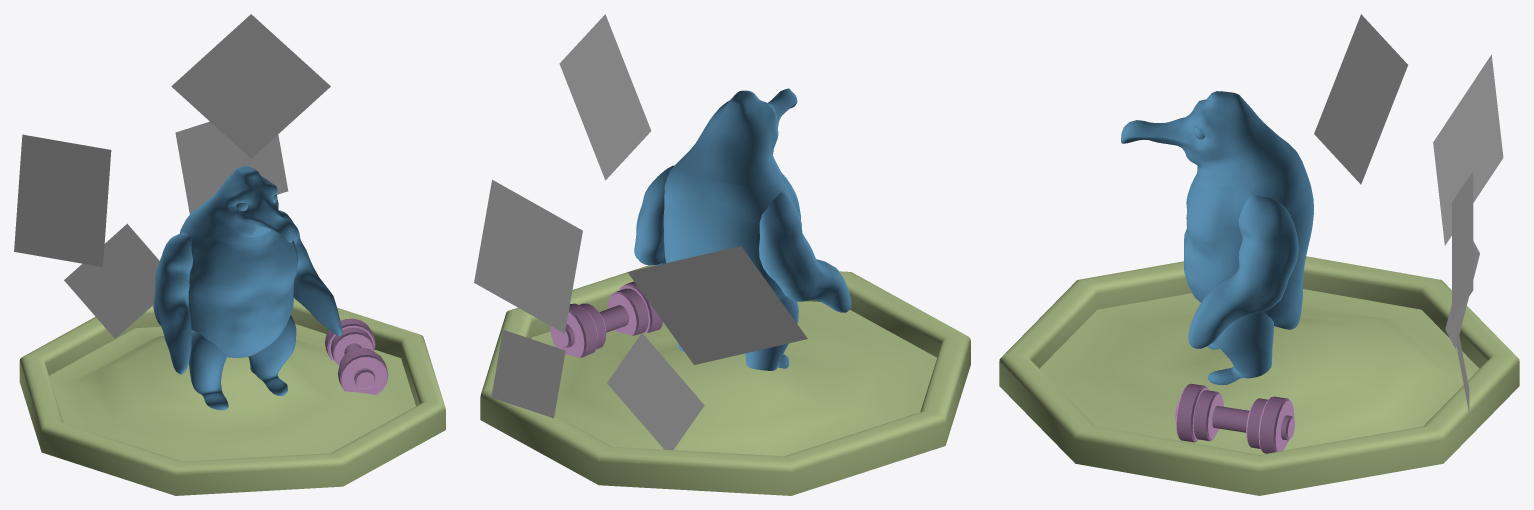
File: SM_ManchotComplet.fbx
3 renders of one model, left to right at view 1: azimuth 30°, elevation 25°; view 2: azimuth 150°, elevation 25°; view 3: azimuth 270°, elevation 25°, orthographic. The views are drawn at different scales.
Parts seen in each view (by area): view 1: Pinguin Socle; view 2: Pinguin Socle; view 3: Pinguin Socle.
Part boxes in pixels (x1=…): Pinguin Socle: x1=14, y1=14, x2=445, y2=495; Pinguin Socle: x1=474, y1=14, x2=970, y2=495; Pinguin Socle: x1=999, y1=14, x2=1519, y2=495.
Size of the model in its own units: 278 by 240 by 278.
